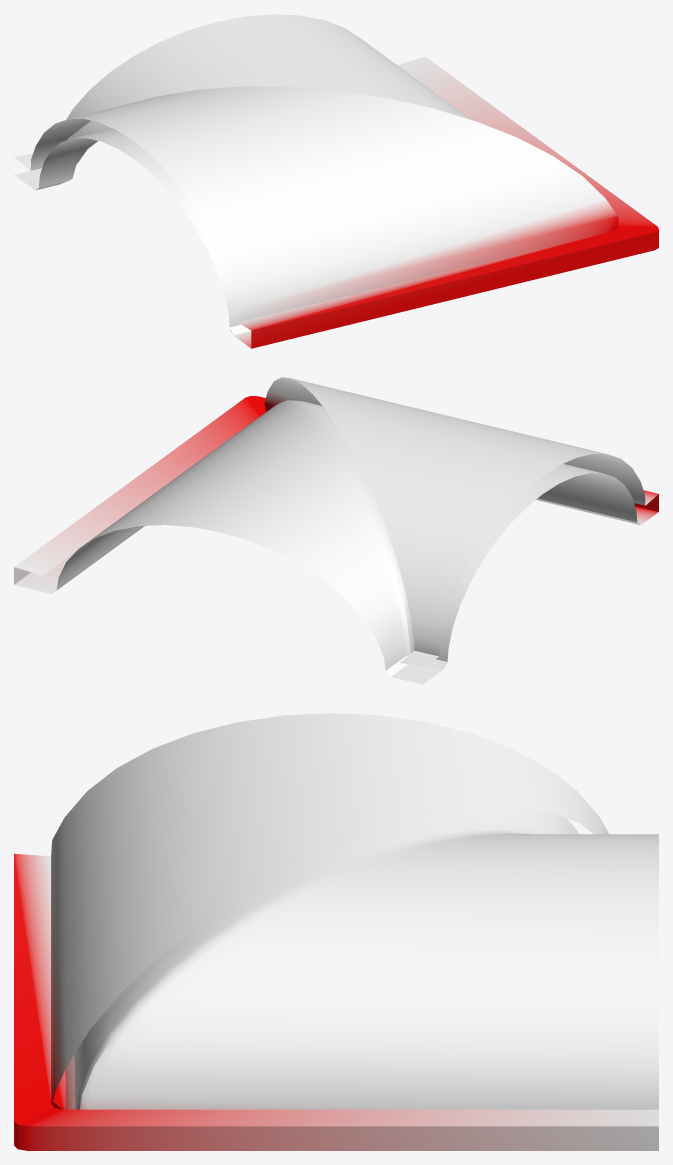
The model's file is SM_MERGED_SM_Stairs_Ceiling_04_175.FBX.
3 views of the same model, one above another, from view 1: azimuth 30°, elevation 25°; view 2: azimuth 150°, elevation 25°; view 3: azimuth 270°, elevation 25° (orthographic). The views are drawn at different scales.
Parts seen in each view (by area): view 1: SM_MERGED_SM_Stairs_Ceiling_04_175; view 2: SM_MERGED_SM_Stairs_Ceiling_04_175; view 3: SM_MERGED_SM_Stairs_Ceiling_04_175.
Boxes of the visible parts, <box> form: SM_MERGED_SM_Stairs_Ceiling_04_175: <box>14,14,658,348</box>; SM_MERGED_SM_Stairs_Ceiling_04_175: <box>14,377,658,684</box>; SM_MERGED_SM_Stairs_Ceiling_04_175: <box>14,713,658,1150</box>.
Size of what is drawn, in the model's own units: 500 by 500 by 141.
